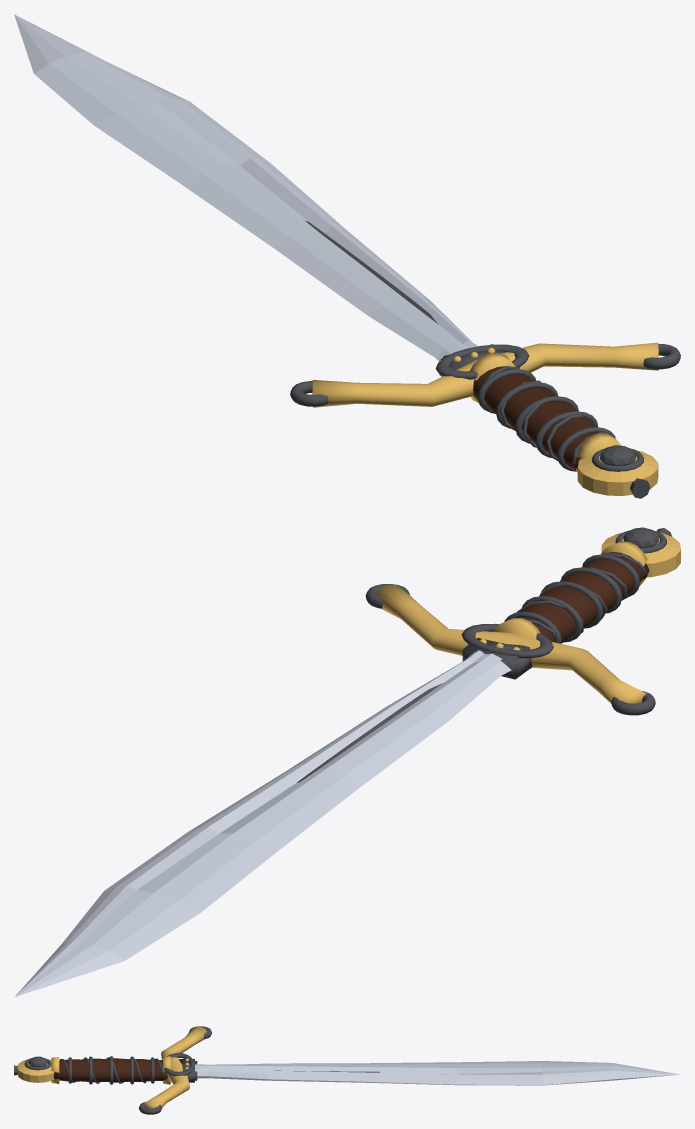
The model's file is SWORD_IRON.glb.
3 renders of one model, top to bottom at view 1: azimuth 30°, elevation 25°; view 2: azimuth 150°, elevation 25°; view 3: azimuth 270°, elevation 25°, orthographic. The views are drawn at different scales.
Parts seen in each view (by area): view 1: FalchionBlade, SGuard, Grip, PommelDisc, NagelSideRing, GripWireWrap; view 2: FalchionBlade, SGuard, Grip, PommelDisc, NagelSideRing, ForteCollar, GripWireWrap; view 3: FalchionBlade, Grip, SGuard, PommelDisc, NagelSideRing, GripWireWrap, ForteCollar, QuillonScroll_R, GripFerrule_1, PommelGem.
Part boxes in pixels (x1,y1,x2,y2): FalchionBlade: [14, 14, 477, 361]; SGuard: [312, 342, 658, 407]; Grip: [473, 366, 598, 469]; PommelDisc: [577, 450, 658, 495]; NagelSideRing: [435, 344, 529, 379]; GripWireWrap: [481, 366, 613, 464]; FalchionBlade: [14, 650, 511, 997]; SGuard: [375, 584, 646, 703]; Grip: [518, 552, 649, 643]; PommelDisc: [601, 533, 680, 577]; NagelSideRing: [461, 623, 553, 658]; ForteCollar: [462, 637, 532, 679]; GripWireWrap: [516, 552, 647, 638]; FalchionBlade: [195, 1061, 679, 1085]; Grip: [53, 1058, 167, 1082]; SGuard: [143, 1026, 207, 1108]; PommelDisc: [17, 1059, 54, 1082]; NagelSideRing: [164, 1053, 194, 1076]; GripWireWrap: [60, 1057, 165, 1083]; ForteCollar: [179, 1059, 197, 1082]; QuillonScroll_R: [139, 1102, 162, 1114]; GripFerrule_1: [51, 1057, 59, 1083]; PommelGem: [28, 1056, 47, 1067].
Size of the model in its own units: 0.2584 by 0.037 by 0.855.
